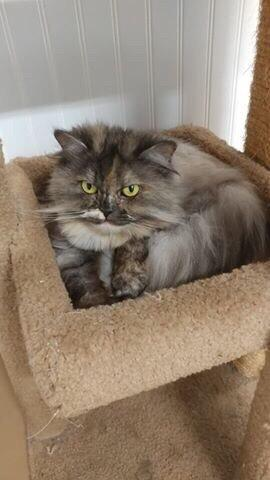persian: (48, 115, 185, 253)
